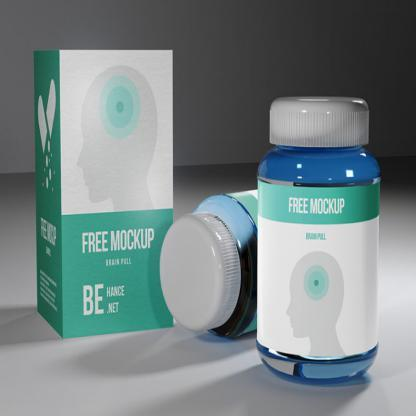jar: (253, 95, 383, 383)
